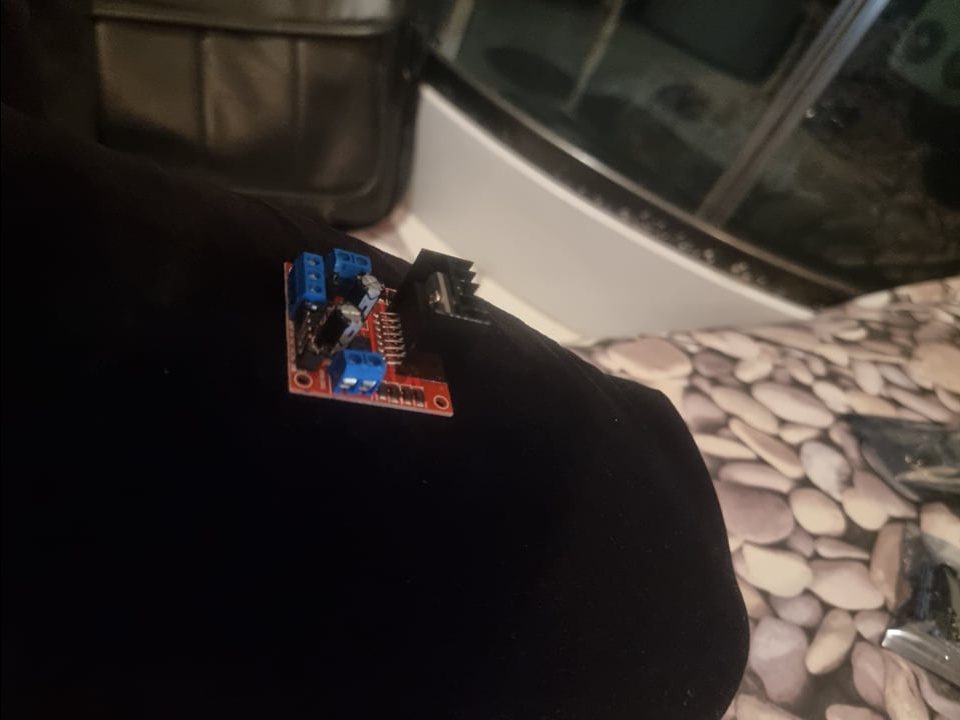MOTOR: (281, 243, 490, 419)
